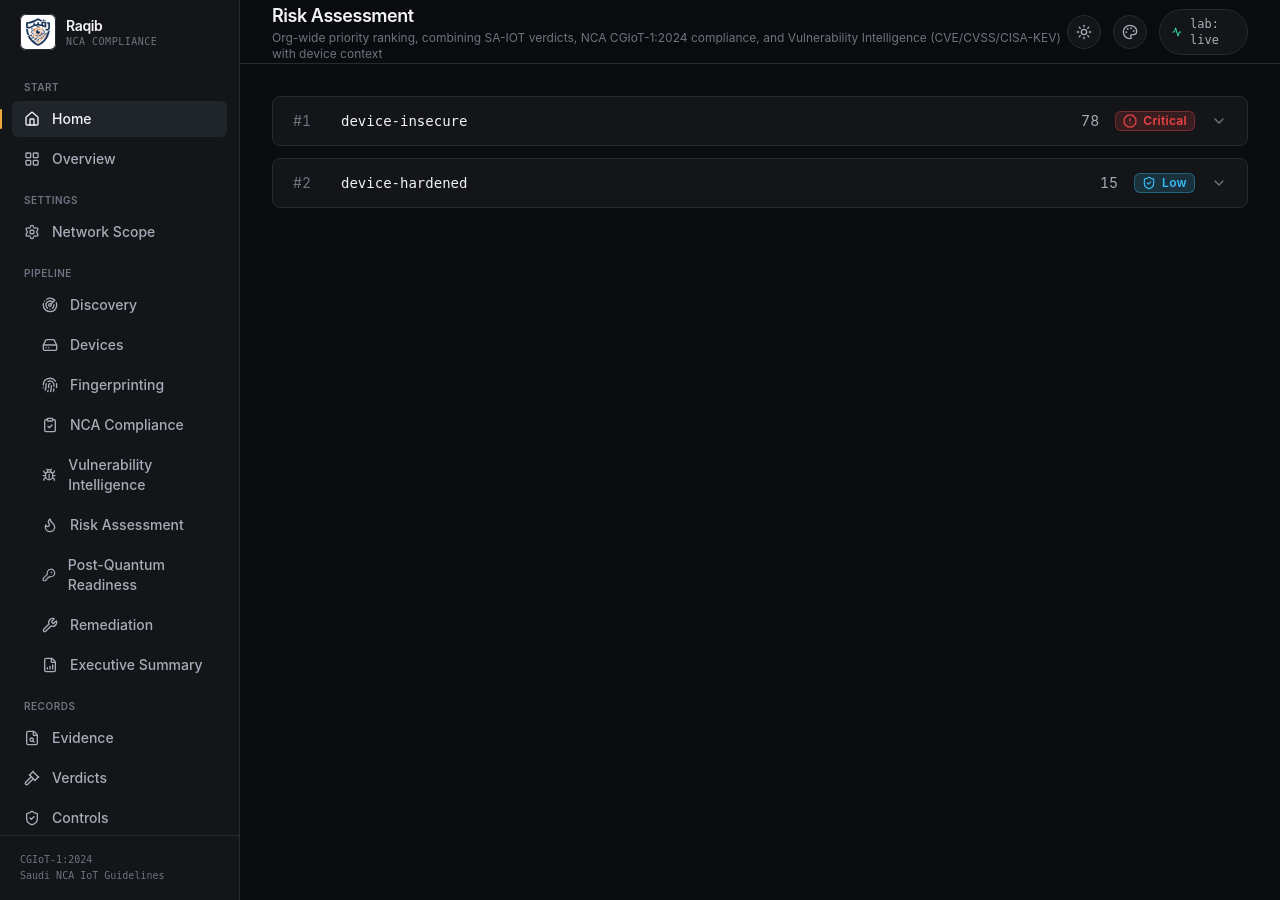
it: RiskAssessmentPage › collapses an expanded row on a second click
The width and height of the screenshot is (1280, 900).
Click the button "#1 device-insecure 78 Critical". click: (404, 121)
box: [273, 97, 1247, 145]
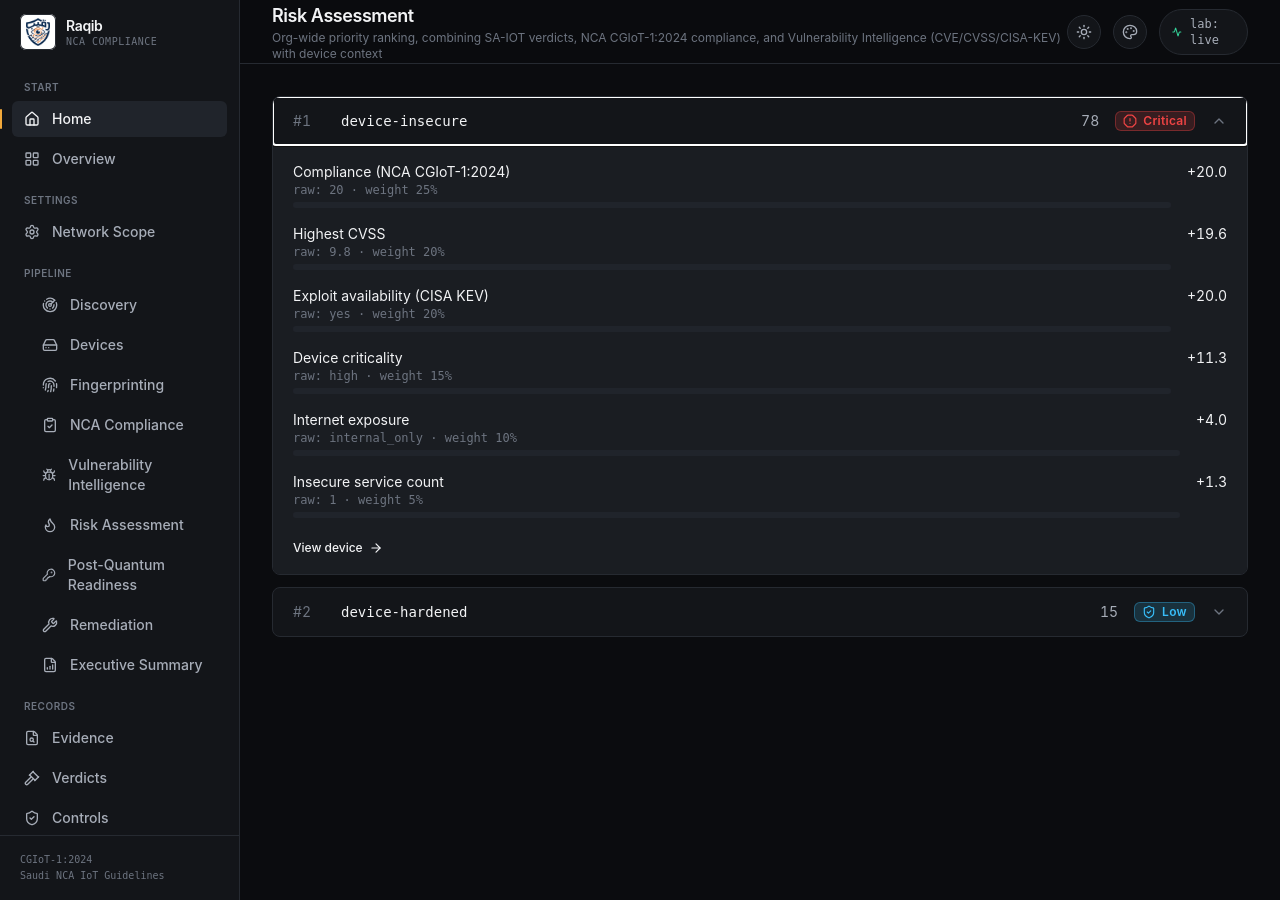
Expected: the text "Highest CVSS" is shown, [293, 225, 386, 242]
Click the button "#1 device-insecure 78 Critical". click: (404, 121)
box: [273, 97, 1247, 145]
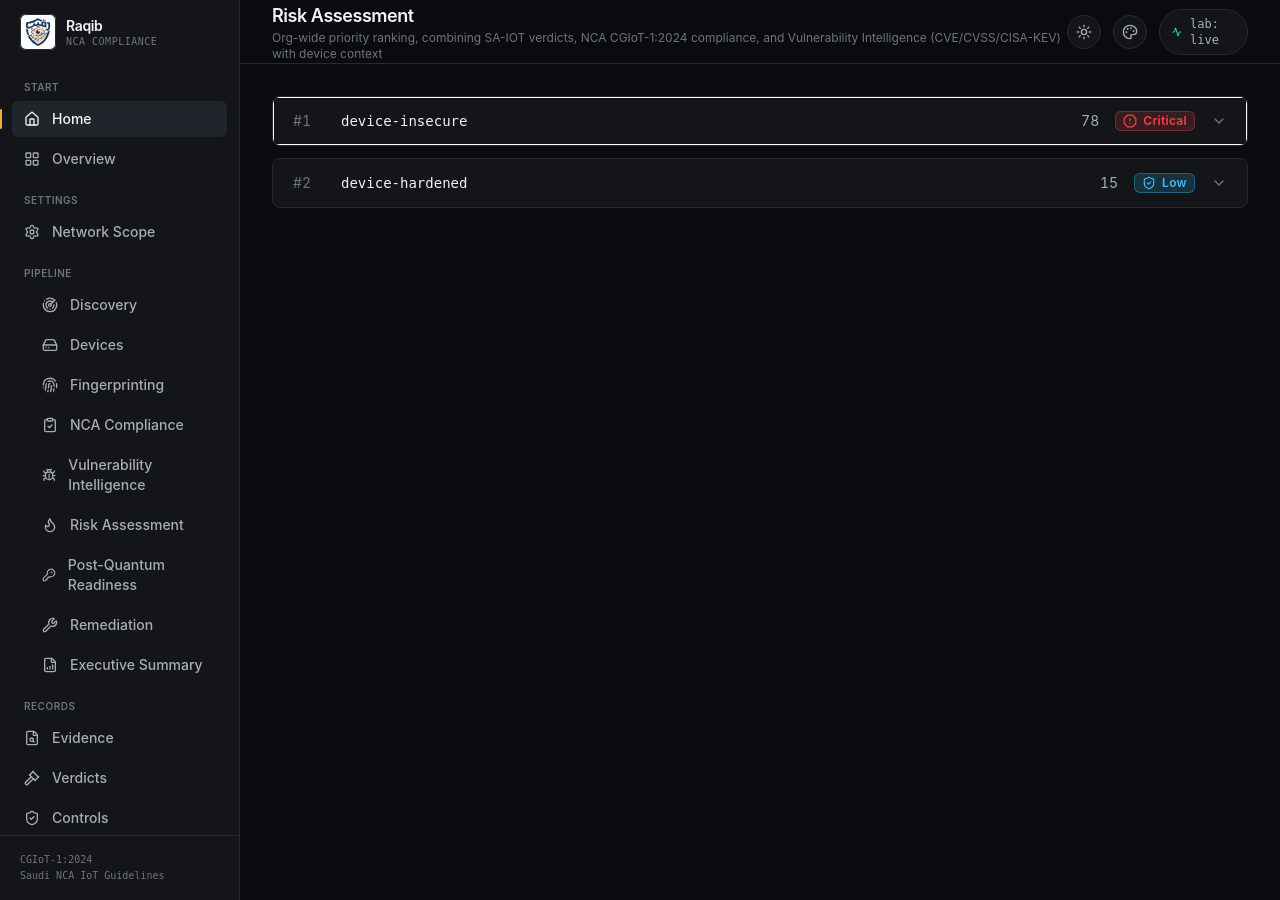
Expected: the text "Highest CVSS" is gone
